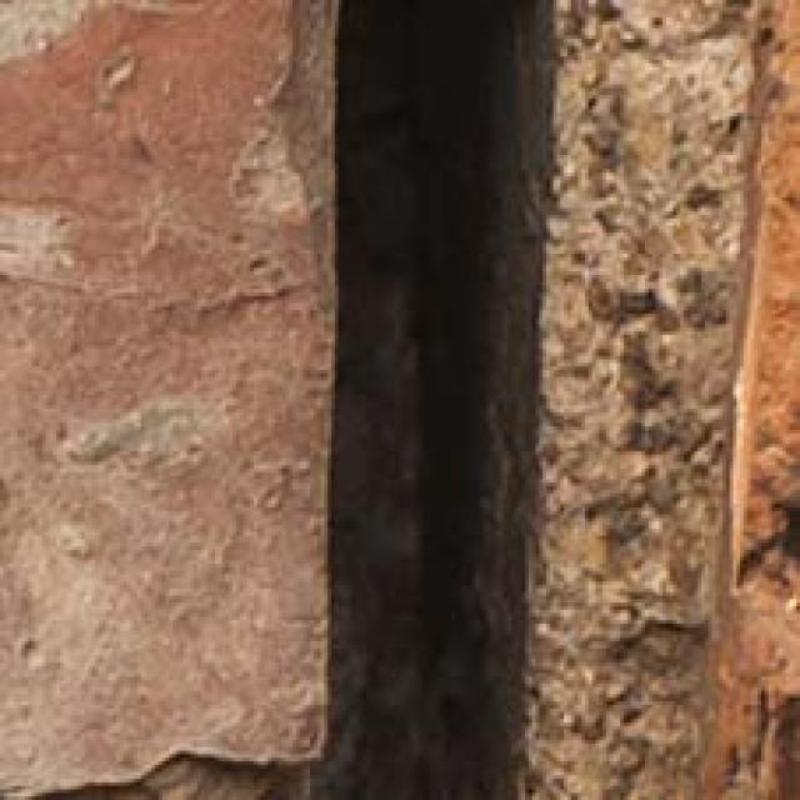crack: (316, 0, 550, 799)
